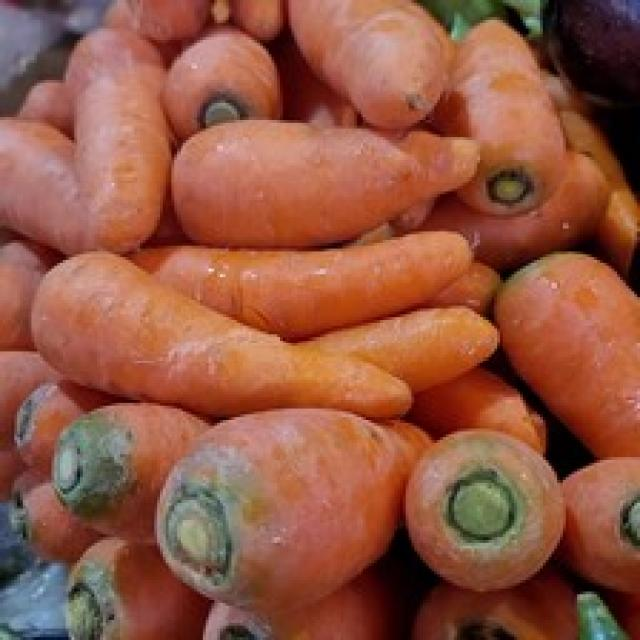Fresh_Carrot: (314, 0, 640, 265), (37, 244, 451, 432), (29, 248, 384, 410), (338, 415, 589, 640), (173, 400, 424, 579), (23, 391, 189, 638), (184, 123, 425, 226), (63, 31, 173, 246)
